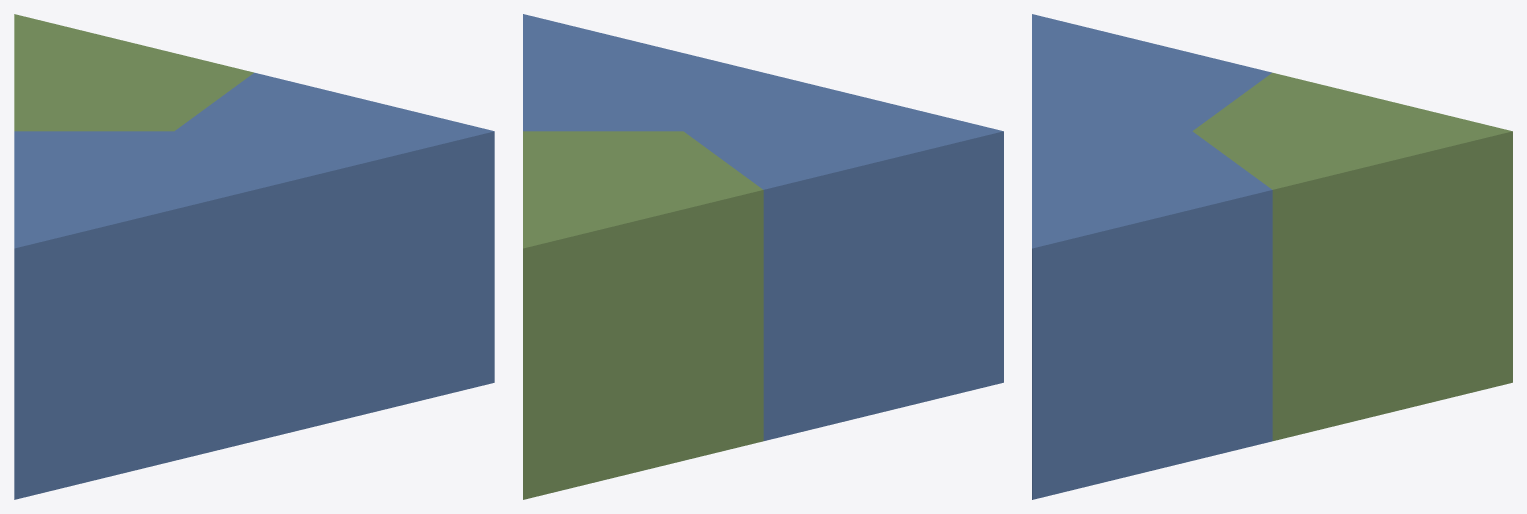
Rendered from face_water_grass-water_water-grass.glb.
3 views of the same model, side by side, from view 1: azimuth 30°, elevation 25°; view 2: azimuth 150°, elevation 25°; view 3: azimuth 270°, elevation 25° (orthographic).
Parts seen in each view (by area): view 1: face_water_grass-water_water-grass; view 2: face_water_grass-water_water-grass; view 3: face_water_grass-water_water-grass.
Part boxes in pixels (x1=…): face_water_grass-water_water-grass: x1=14, y1=14, x2=494, y2=499; face_water_grass-water_water-grass: x1=523, y1=14, x2=1003, y2=499; face_water_grass-water_water-grass: x1=1032, y1=14, x2=1512, y2=499.
Size of the model in its own units: 1 by 0.5 by 0.8663.
